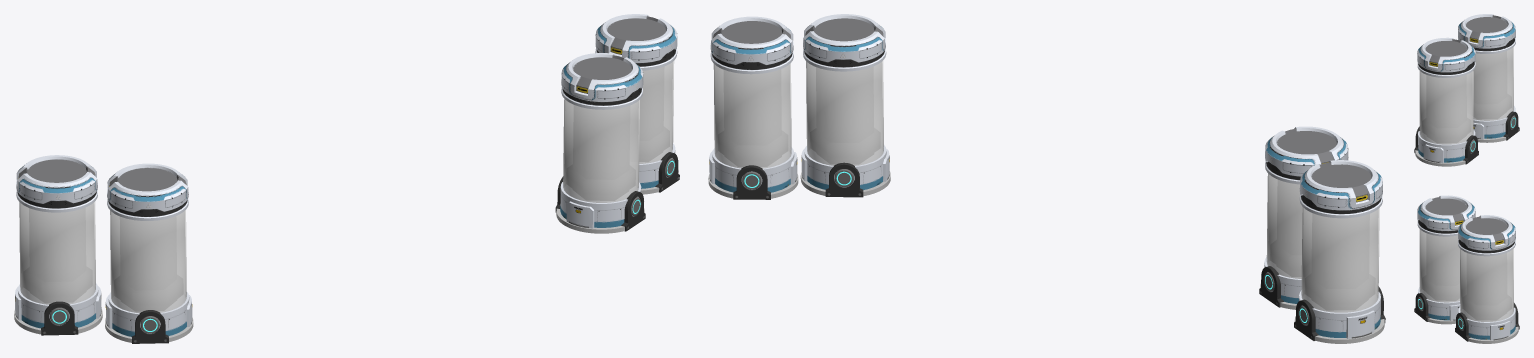
The model's file is Battery0405.fbx.
3 renders of one model, left to right at view 1: azimuth 30°, elevation 25°; view 2: azimuth 150°, elevation 25°; view 3: azimuth 270°, elevation 25°, orthographic. The views are drawn at different scales.
Parts seen in each view (by area): view 1: Cylinder.008; view 2: Cylinder.008; view 3: Cylinder.008.
Boxes of the visible parts, x1,y1,x2,y2 form: Cylinder.008: [14, 14, 679, 343]; Cylinder.008: [708, 14, 1385, 343]; Cylinder.008: [1414, 14, 1519, 343].
Size of the model in its own units: 6144 by 1366 by 1200.
